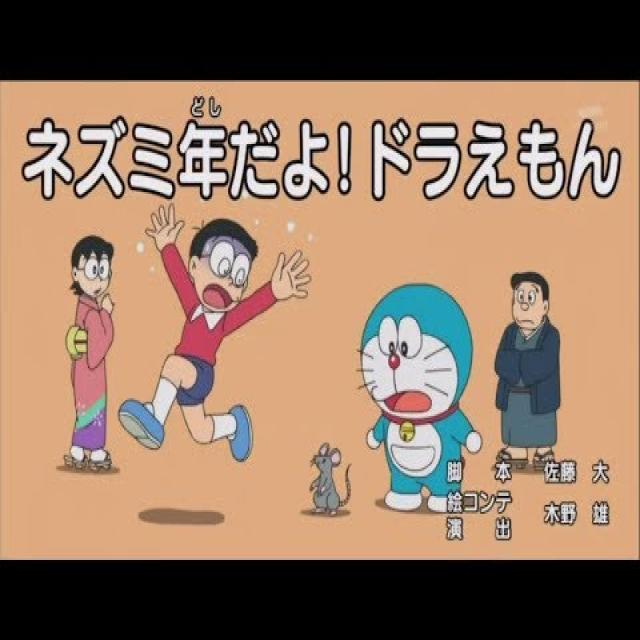nobita: (354, 272, 478, 448), (179, 210, 265, 336)
